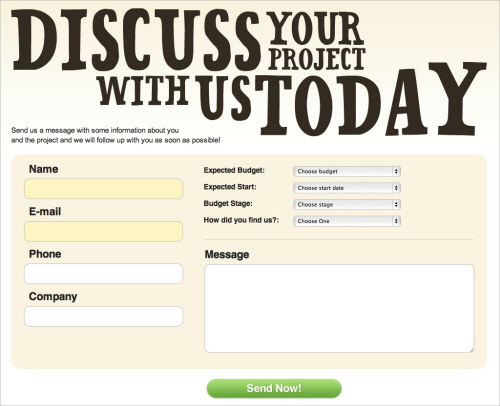_form_: (1, 1, 416, 406)
button: (206, 378, 342, 398)
field: (204, 262, 474, 354), (23, 176, 183, 199), (24, 219, 184, 242), (23, 262, 183, 285), (24, 304, 184, 326), (293, 165, 400, 177), (293, 181, 400, 193), (293, 198, 400, 210), (293, 214, 400, 226)
field_with_label: (203, 249, 476, 357), (21, 248, 184, 287), (22, 206, 187, 244), (22, 290, 186, 328), (22, 164, 185, 201), (202, 163, 403, 179), (202, 179, 402, 195), (203, 211, 402, 227), (202, 196, 401, 211)
